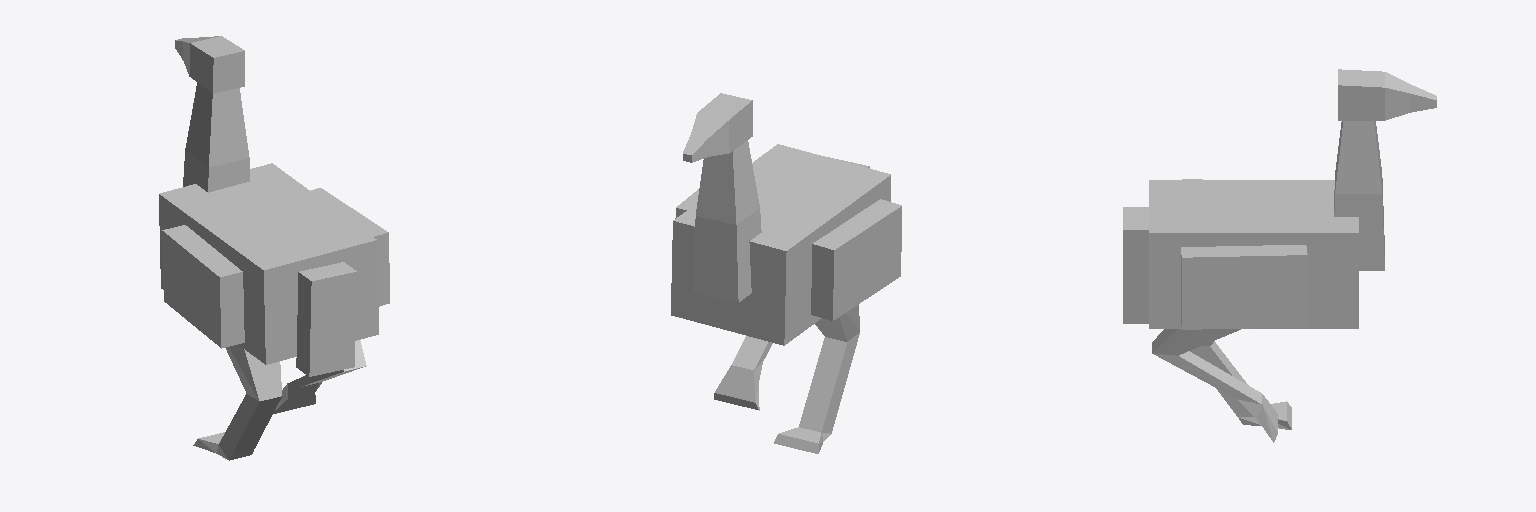
Rendered from Ostrich_000222.obj.
The picture shows the model from 3 angles: view 1: azimuth 30°, elevation 25°; view 2: azimuth 150°, elevation 25°; view 3: azimuth 270°, elevation 25°; orthographic projection.
Parts seen in each view (by area): view 1: Cube_Cube.001; view 2: Cube_Cube.001; view 3: Cube_Cube.001.
Boxes of the visible parts, <box> form: Cube_Cube.001: <box>159,36,389,460</box>; Cube_Cube.001: <box>671,93,901,453</box>; Cube_Cube.001: <box>1123,69,1436,442</box>.
Bounding box in the file's own units: 0.7514 × 1.51 × 1.2.